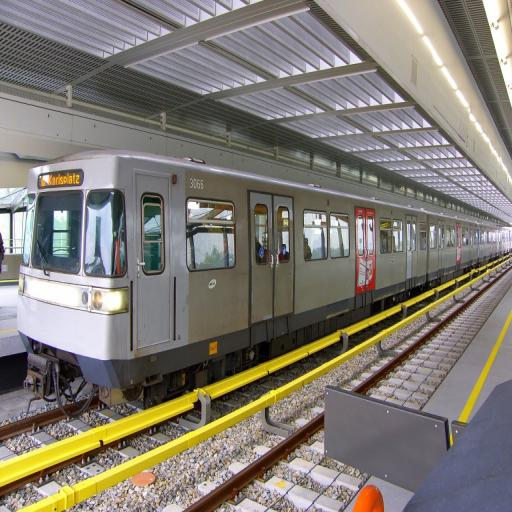Silberpfeil: (15, 148, 509, 380)
